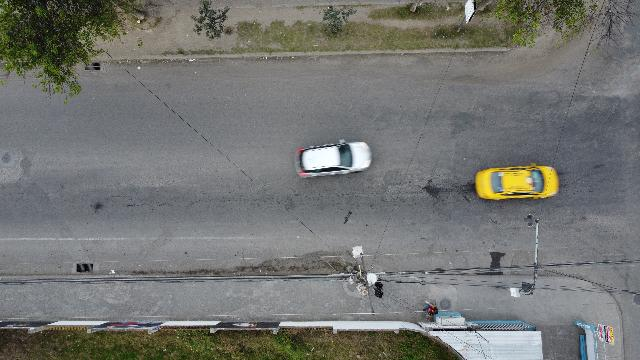Vehiculo: (294, 139, 372, 178), (475, 164, 559, 200)
